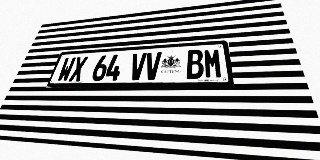4: (104, 54, 123, 81)
6: (91, 55, 110, 81)
B: (186, 49, 204, 79)
M: (203, 48, 223, 79)
V: (128, 53, 147, 80), (144, 52, 162, 80)
W: (56, 57, 76, 82)
X: (68, 56, 88, 82)
